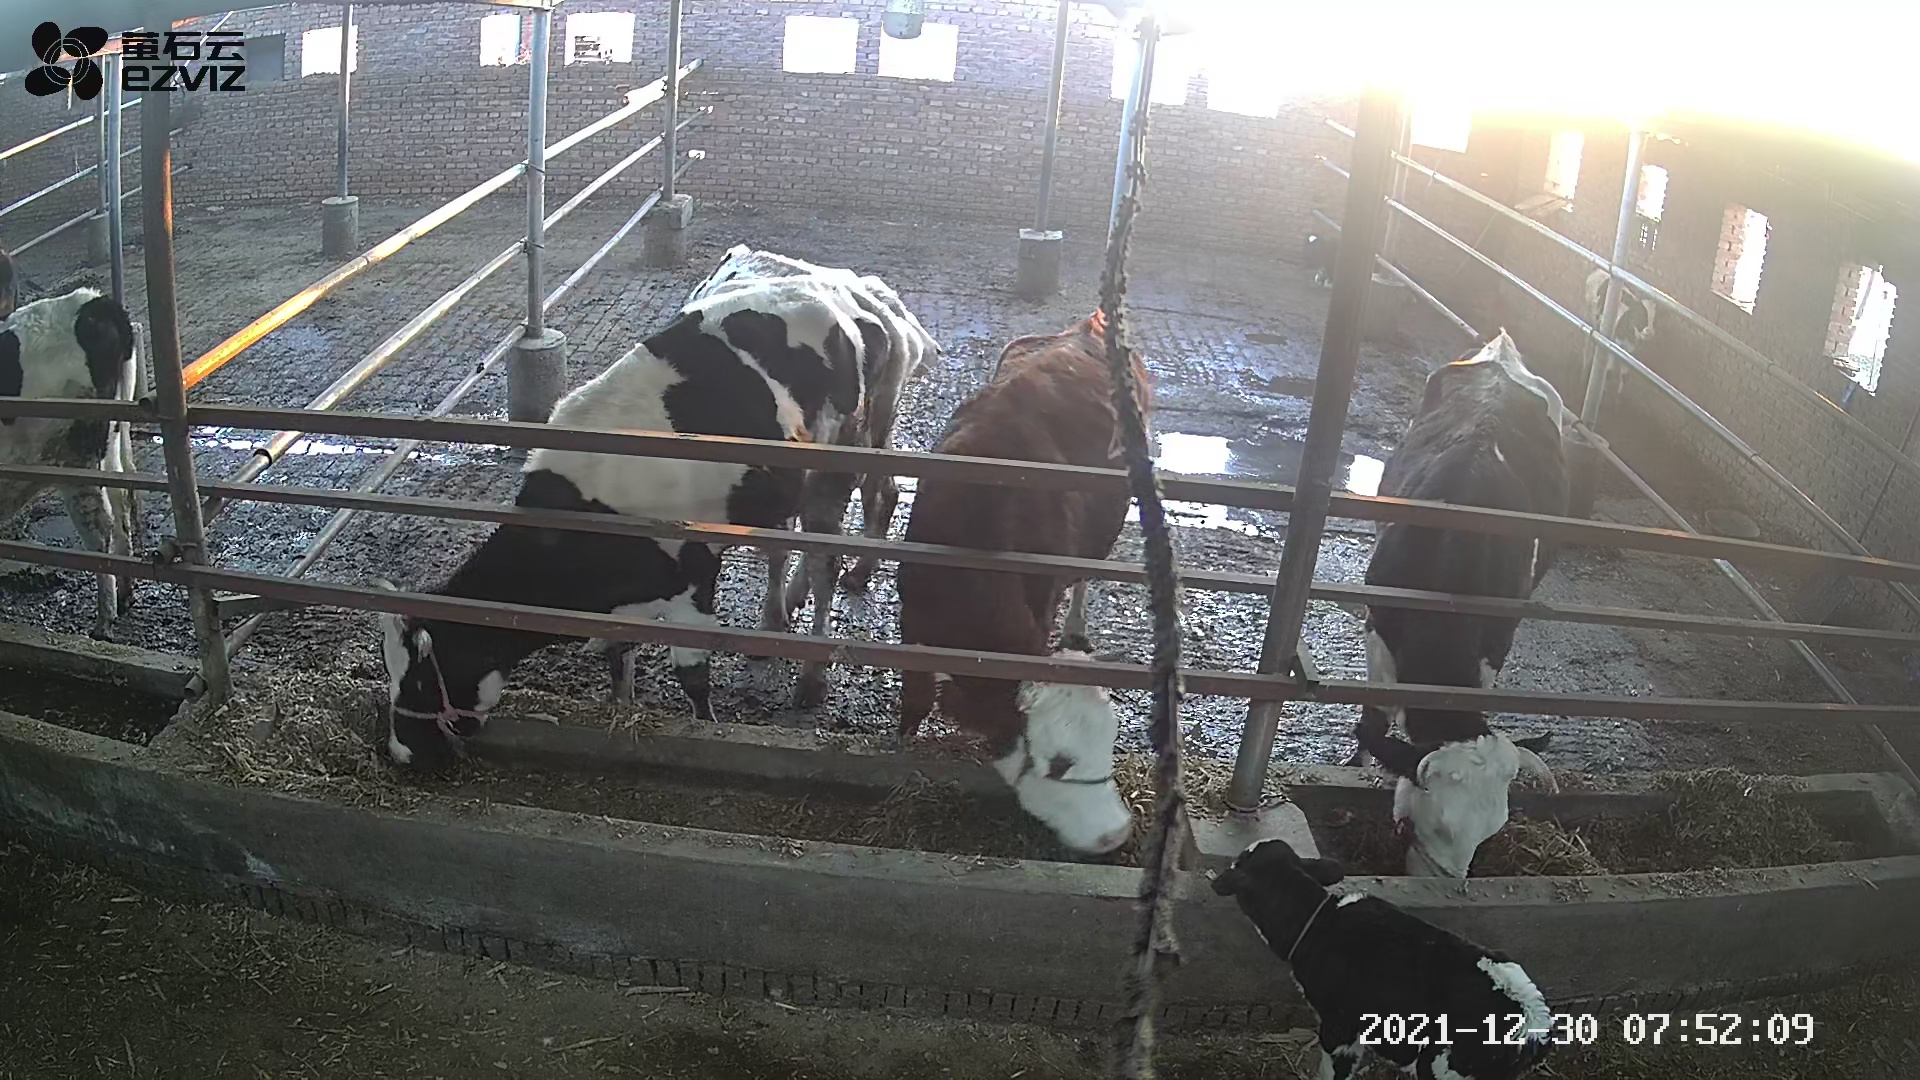cow: (372, 277, 891, 771), (891, 303, 1153, 853), (1344, 323, 1573, 886), (684, 240, 939, 597)
